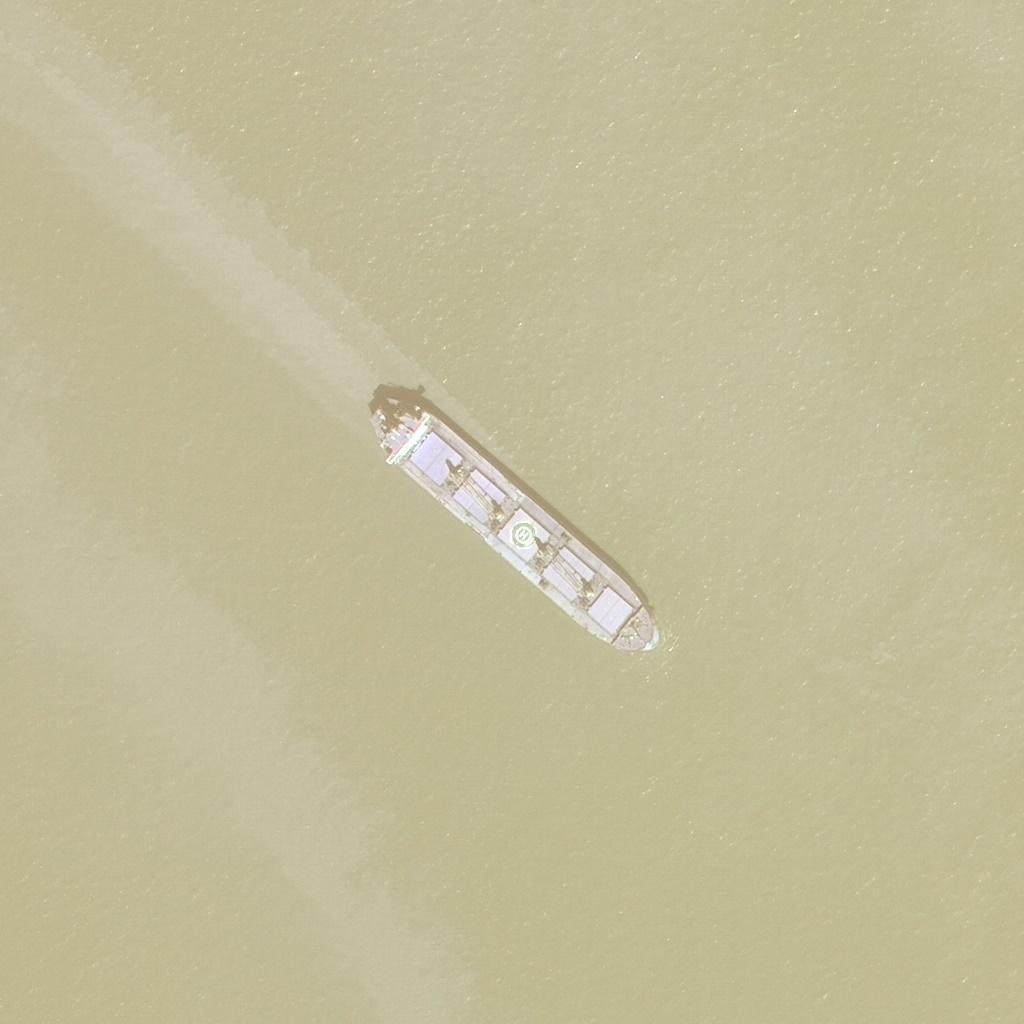ship: (364, 392, 664, 666)
